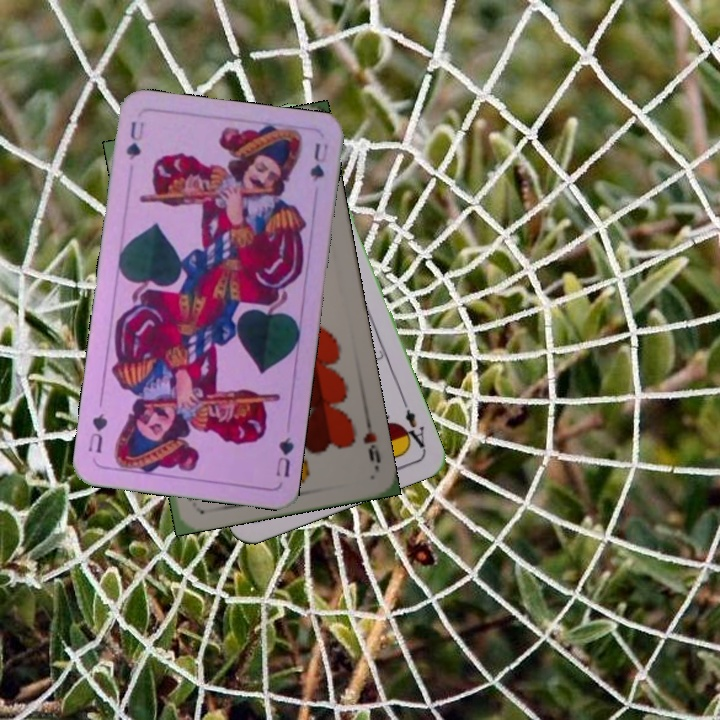EA: (397, 405, 428, 453)
GU: (122, 117, 147, 163), (272, 433, 296, 480)
H9: (359, 413, 383, 472)
